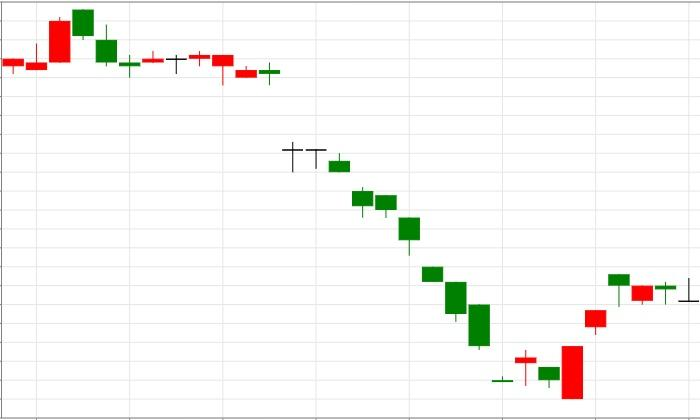bullish_engulfing_rise: (258, 61, 584, 399)
